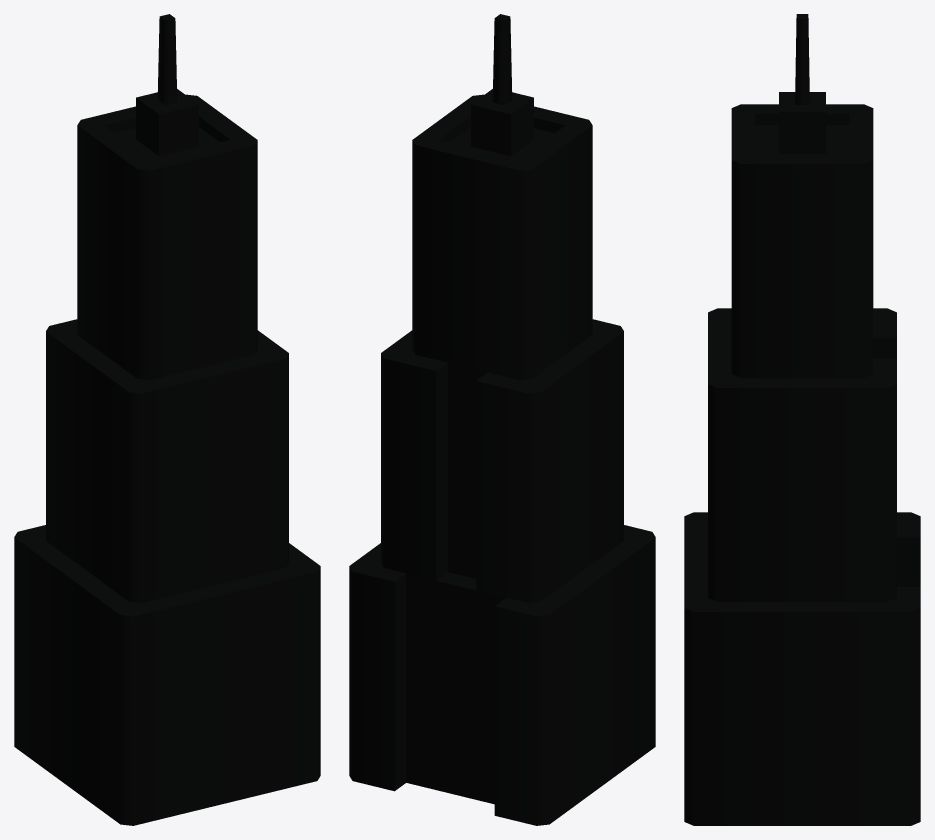
The model's file is low-detail-building-i.glb.
3 renders of one model, left to right at view 1: azimuth 30°, elevation 25°; view 2: azimuth 150°, elevation 25°; view 3: azimuth 270°, elevation 25°, orthographic. The views are drawn at different scales.
Visible parts, largest first — view 1: low-detail-building-i; view 2: low-detail-building-i; view 3: low-detail-building-i.
Part boxes in pixels (x1,y1,x2,y2): low-detail-building-i: (14, 14, 320, 825); low-detail-building-i: (349, 14, 655, 825); low-detail-building-i: (684, 14, 920, 825).
Size of the model in its own units: 0.5004 by 1.77 by 0.5004.
1 material, 1 textured.
